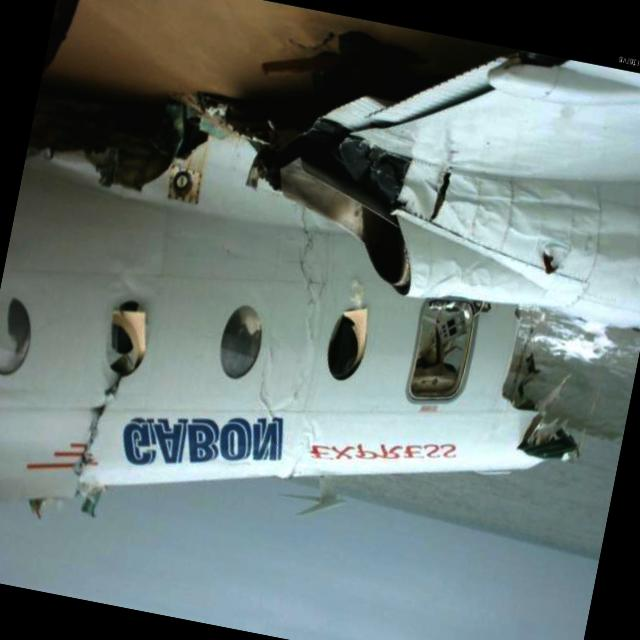crack: (68, 368, 125, 490), (282, 202, 336, 306), (427, 163, 461, 226)
dent: (438, 147, 640, 278)
